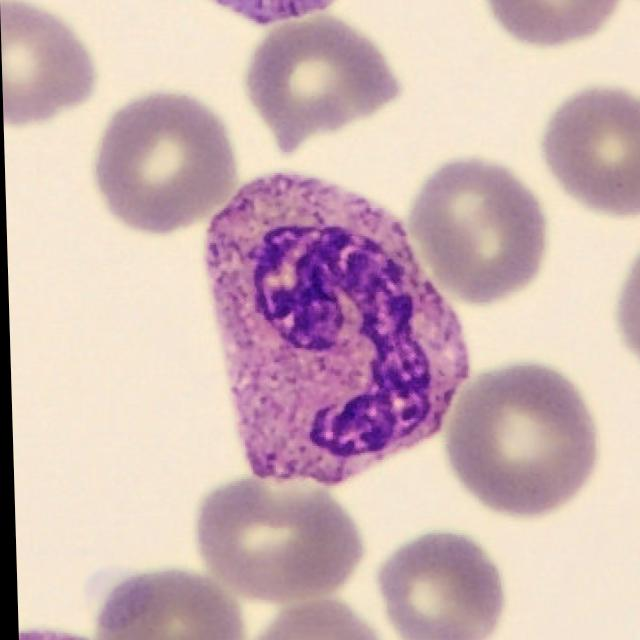Neutrofilo segmentado: (201, 173, 468, 484)
